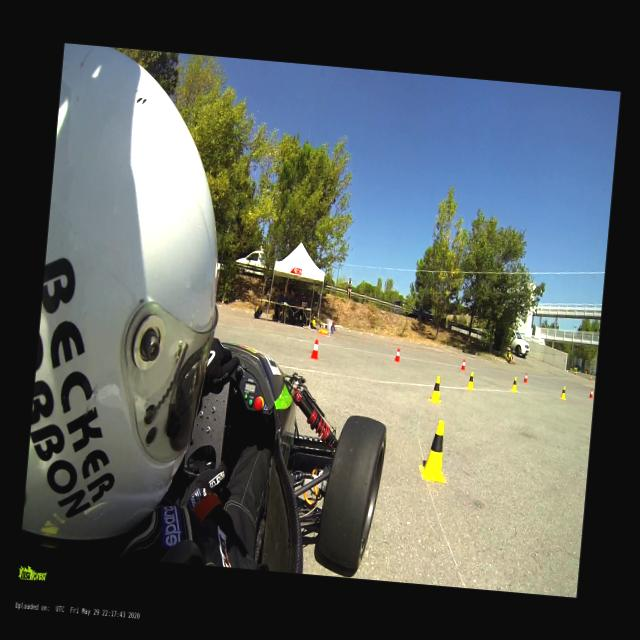orange_cone: (310, 338, 320, 359), (394, 347, 401, 363), (460, 358, 466, 371), (588, 388, 594, 399), (522, 373, 528, 383), (574, 370, 576, 376), (590, 376, 592, 381)
yellow_cone: (419, 418, 451, 484), (428, 374, 442, 404), (464, 370, 476, 390), (509, 376, 518, 392), (558, 386, 566, 400)
